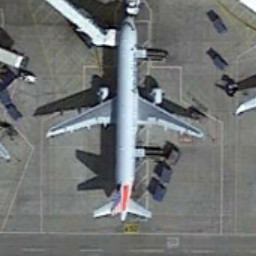Airplane: (41, 8, 209, 225)
